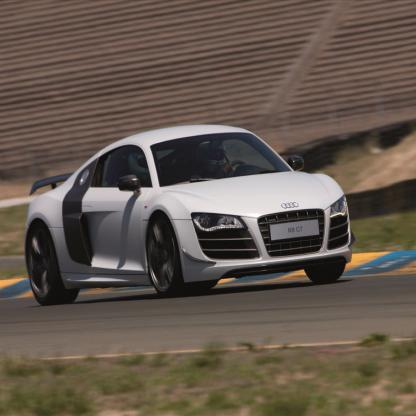Vehicle: (22, 122, 359, 310)
